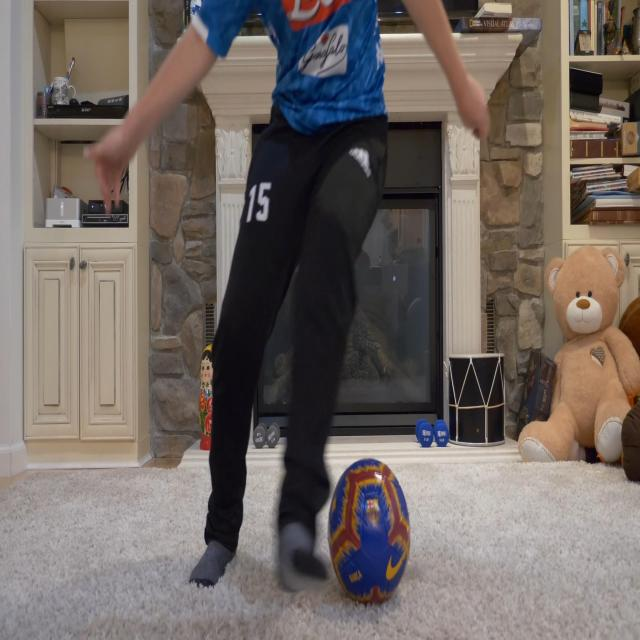Soccer Ball: (330, 455, 411, 603)
